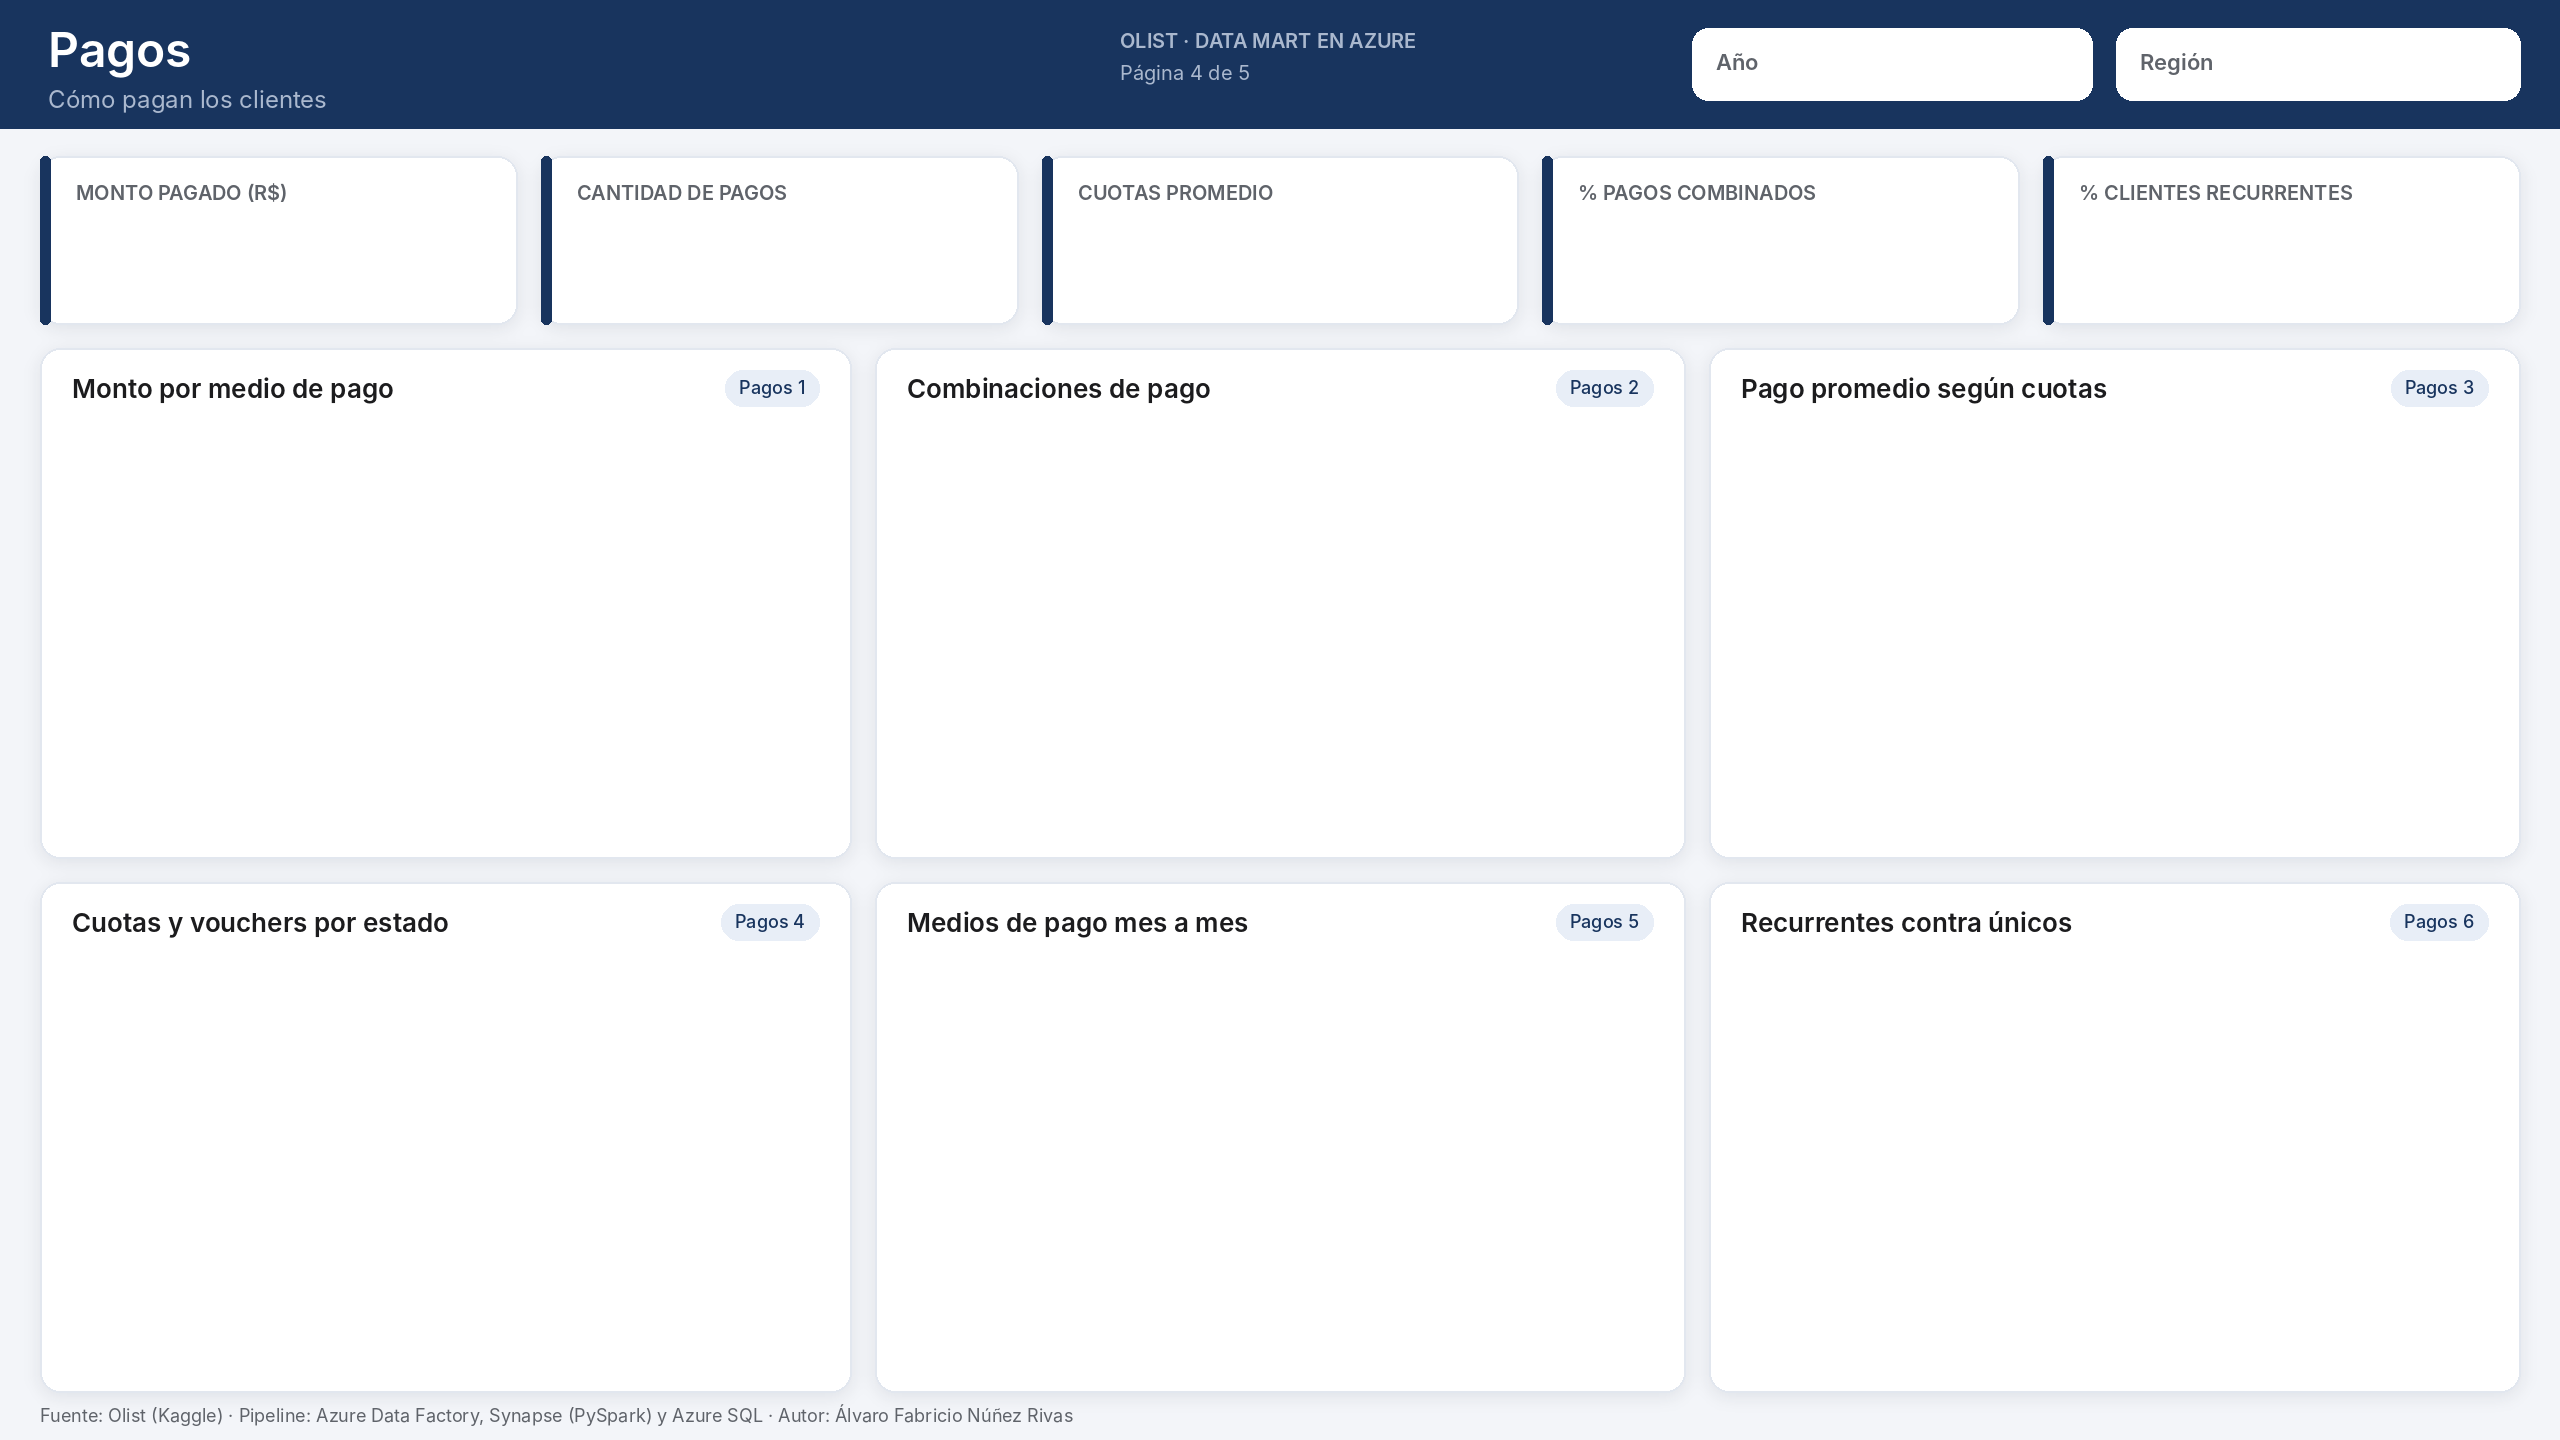

The dashboard page shown, as its layout file describes it:
{"tool":"powerbi","page":{"name":"Pagos","canvas":[1280,720],"ordinal":3},"visuals":[{"type":"slicer","fields":{"Values":["dim_fecha.anio"]},"box":[890,17,150,30],"z":0},{"type":"slicer","fields":{"Values":["dim_ubicacion.region"]},"box":[1112,17,144,30],"z":1},{"type":"card","fields":{"Values":["_Medidas.Monto pagado"]},"box":[28,100,226,60],"z":2},{"type":"card","fields":{"Values":["_Medidas.Cantidad de pagos"]},"box":[278,100,226,60],"z":3},{"type":"card","fields":{"Values":["_Medidas.Cuotas promedio"]},"box":[529,100,226,60],"z":4},{"type":"card","fields":{"Values":["_Medidas.% Pagos combinados"]},"box":[779,100,226,60],"z":5},{"type":"card","fields":{"Values":["_Medidas.% Clientes recurrentes"]},"box":[1030,100,226,60],"z":6},{"type":"donutChart","fields":{"Category":["dim_medio_pago.nombre"],"Y":["_Medidas.Monto pagado"]},"box":[28,210,389,211],"z":7},{"type":"clusteredBarChart","fields":{"Category":["v_combinacion_pago.combinacion"],"Y":["_Medidas.Pedidos con pago"]},"box":[445,210,389,211],"z":8},{"type":"clusteredColumnChart","fields":{"Category":["fact_pagos.cuotas"],"Y":["_Medidas.Pago promedio"]},"box":[863,210,389,211],"z":9},{"type":"clusteredBarChart","fields":{"Category":["dim_ubicacion.estado"],"Y":["_Medidas.Cuotas promedio"]},"box":[28,477,389,211],"z":10},{"type":"columnChart","fields":{"Category":["dim_fecha.anio_mes"],"Series":["dim_medio_pago.nombre"],"Y":["_Medidas.Monto pagado"]},"box":[445,477,389,211],"z":11},{"type":"hundredPercentStackedBarChart","fields":{"Category":["dim_cliente.es_recurrente"],"Series":["dim_medio_pago.nombre"],"Y":["_Medidas.Monto pagado"]},"box":[863,477,389,211],"z":12}]}

Visuals, with their boxes in screenshot pixels (x1, y1, x2, y2), scaled from the page's 1280x720 canvas onto the 2560x1440 screenshot:
slicer - dim_fecha.anio: 1780:34:2080:94
slicer - dim_ubicacion.region: 2224:34:2512:94
card - _Medidas.Monto pagado: 56:200:508:320
card - _Medidas.Cantidad de pagos: 556:200:1008:320
card - _Medidas.Cuotas promedio: 1058:200:1510:320
card - _Medidas.% Pagos combinados: 1558:200:2010:320
card - _Medidas.% Clientes recurrentes: 2060:200:2512:320
donutChart - dim_medio_pago.nombre x _Medidas.Monto pagado: 56:420:834:842
clusteredBarChart - v_combinacion_pago.combinacion x _Medidas.Pedidos con pago: 890:420:1668:842
clusteredColumnChart - fact_pagos.cuotas x _Medidas.Pago promedio: 1726:420:2504:842
clusteredBarChart - dim_ubicacion.estado x _Medidas.Cuotas promedio: 56:954:834:1376
columnChart - dim_fecha.anio_mes x dim_medio_pago.nombre: 890:954:1668:1376
hundredPercentStackedBarChart - dim_cliente.es_recurrente x dim_medio_pago.nombre: 1726:954:2504:1376
